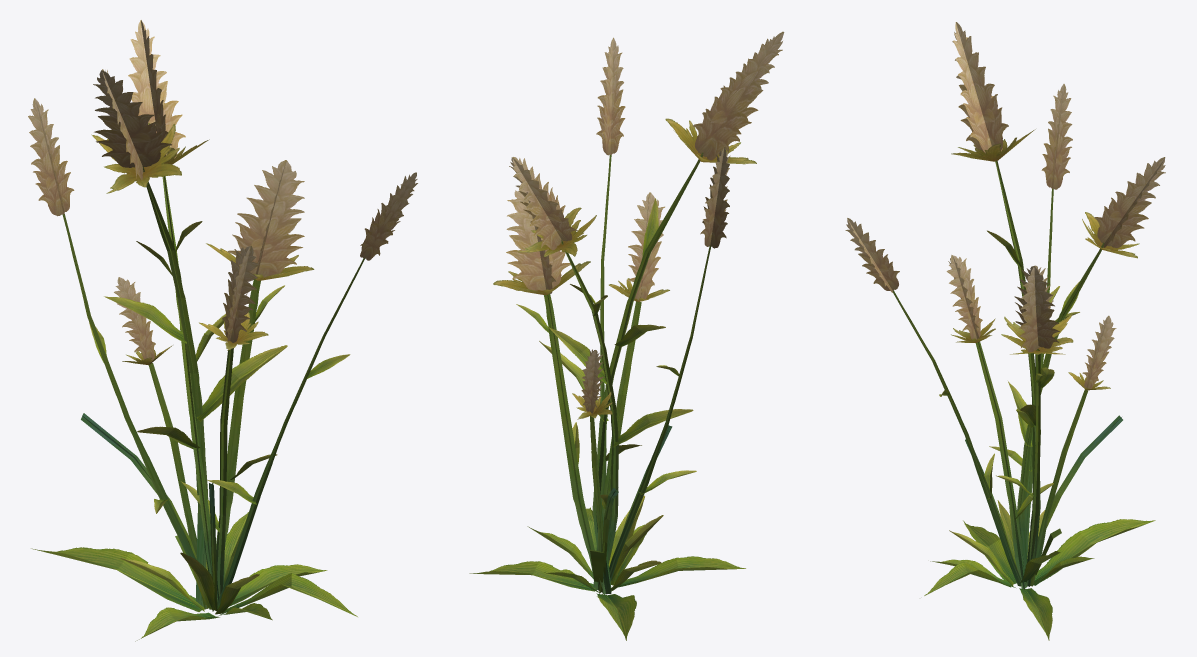
The model's file is object_grass_05.FBX.
3 views of the same model, side by side, from view 1: azimuth 30°, elevation 25°; view 2: azimuth 150°, elevation 25°; view 3: azimuth 270°, elevation 25° (orthographic). The views are drawn at different scales.
Visible parts, largest first — view 1: Plane055; view 2: Plane055; view 3: Plane055.
Boxes of the visible parts, <box> form: Plane055: <box>28,20,417,641</box>; Plane055: <box>469,31,784,640</box>; Plane055: <box>845,22,1165,640</box>.
Size of the model in its own units: 27.28 by 53.15 by 32.6.
